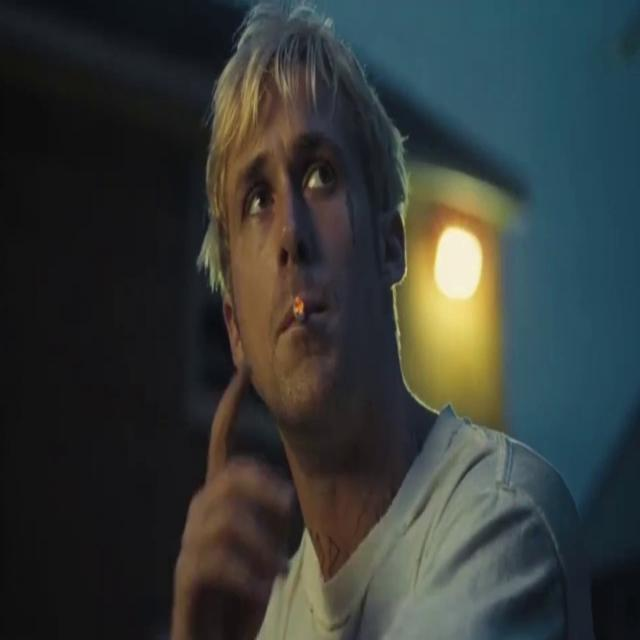Smooking: (284, 284, 311, 338)
